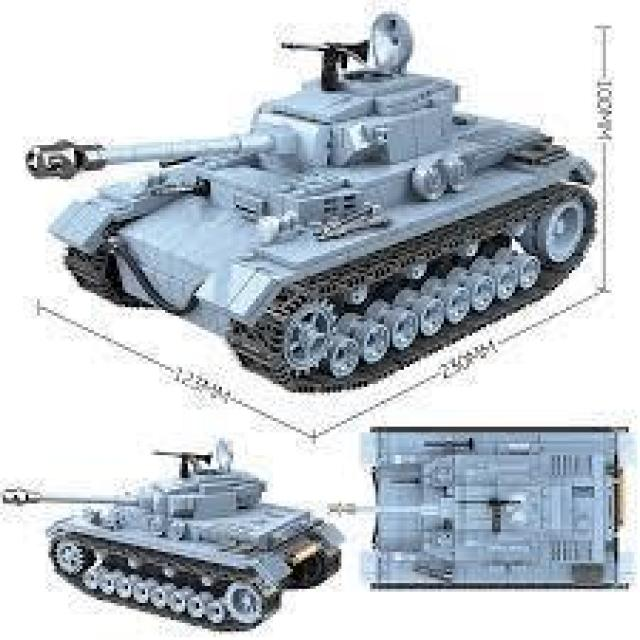Tanks: (19, 31, 573, 418), (31, 424, 350, 623), (360, 415, 576, 623)
